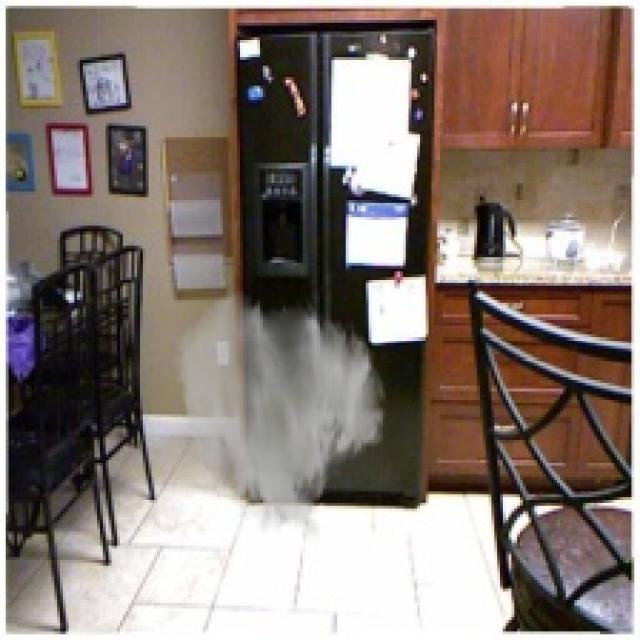Smoke: (174, 288, 389, 543)
